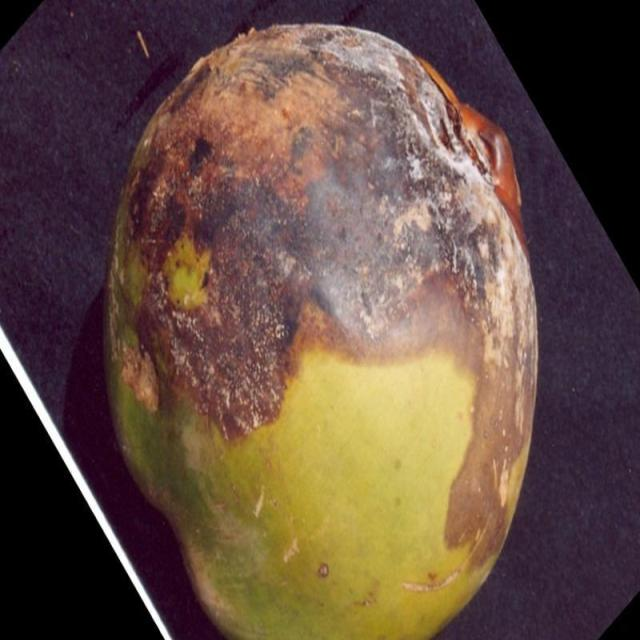damaged: (98, 22, 540, 639)
